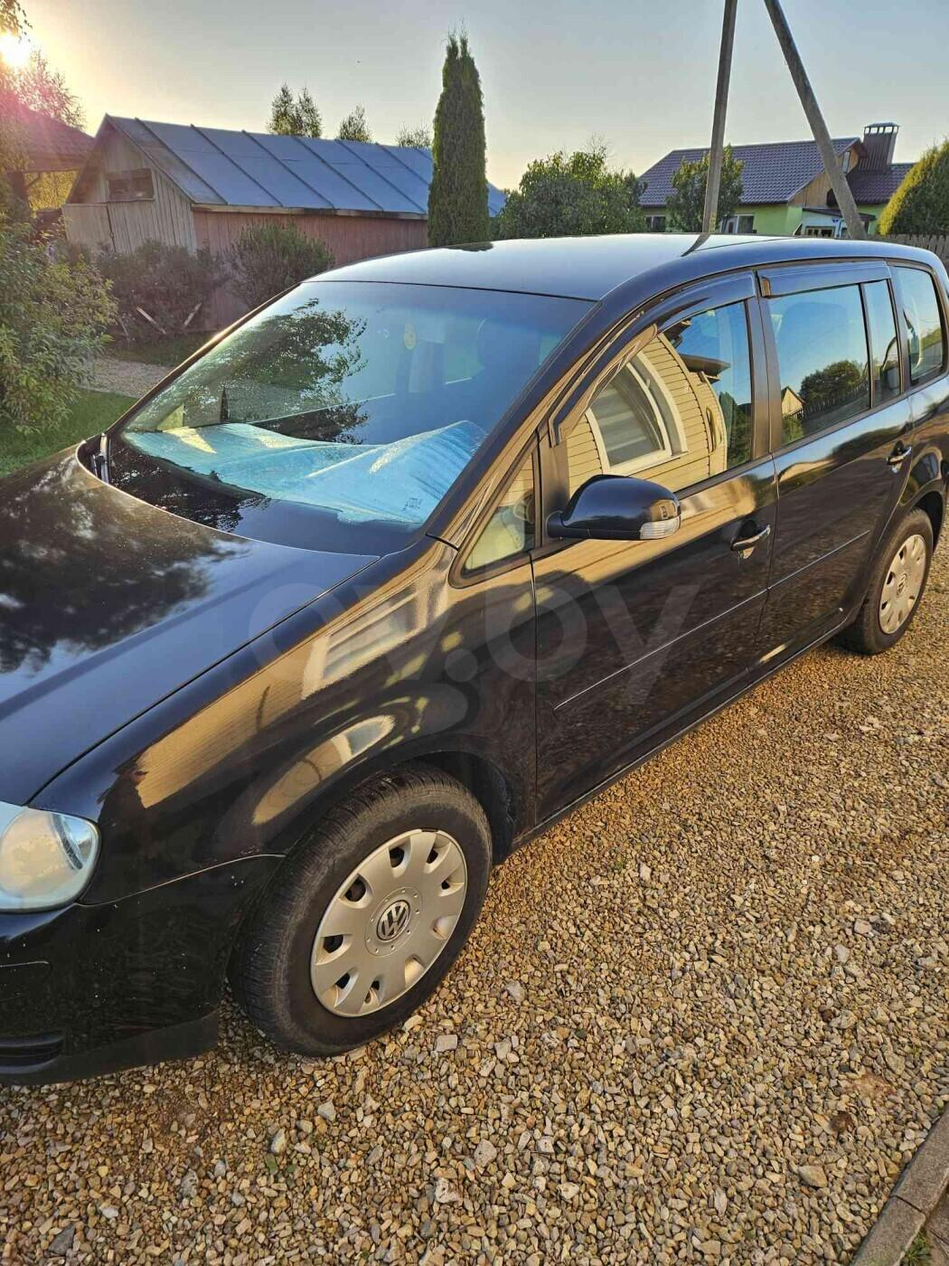Touran_2003-2006: (0, 228, 949, 1074)
